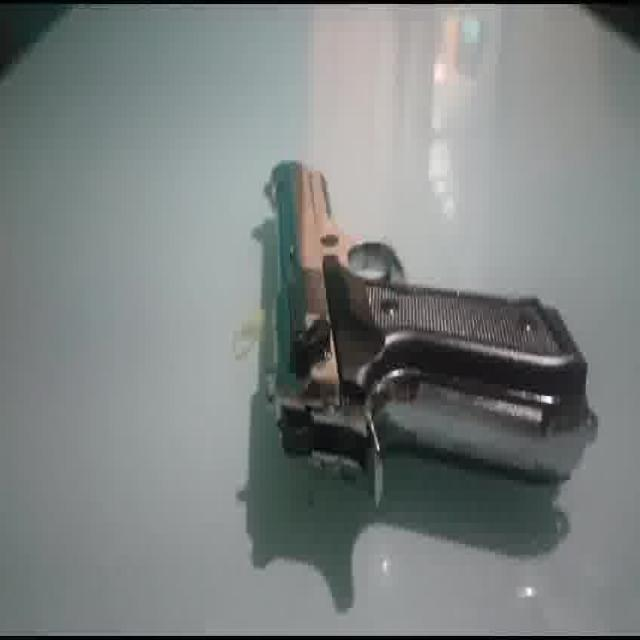weapon: (255, 158, 598, 510)
